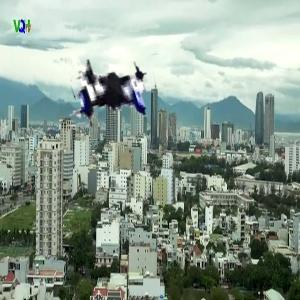drone: (58, 50, 185, 177)
